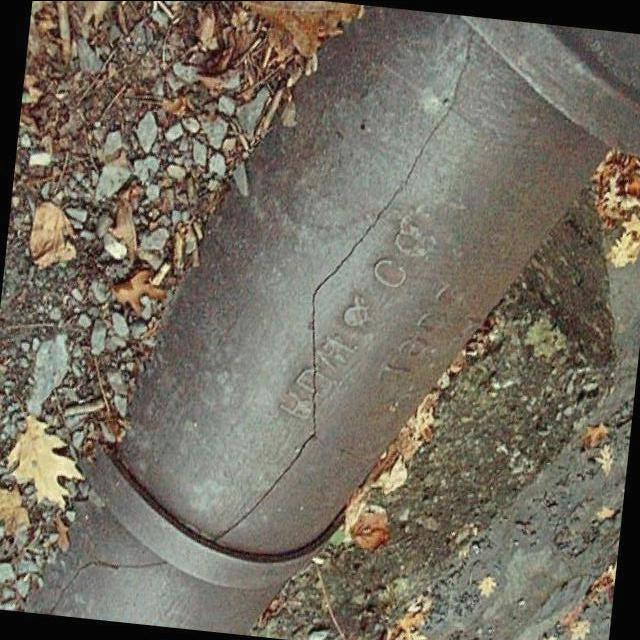defect: (211, 20, 477, 541), (44, 553, 171, 611)
